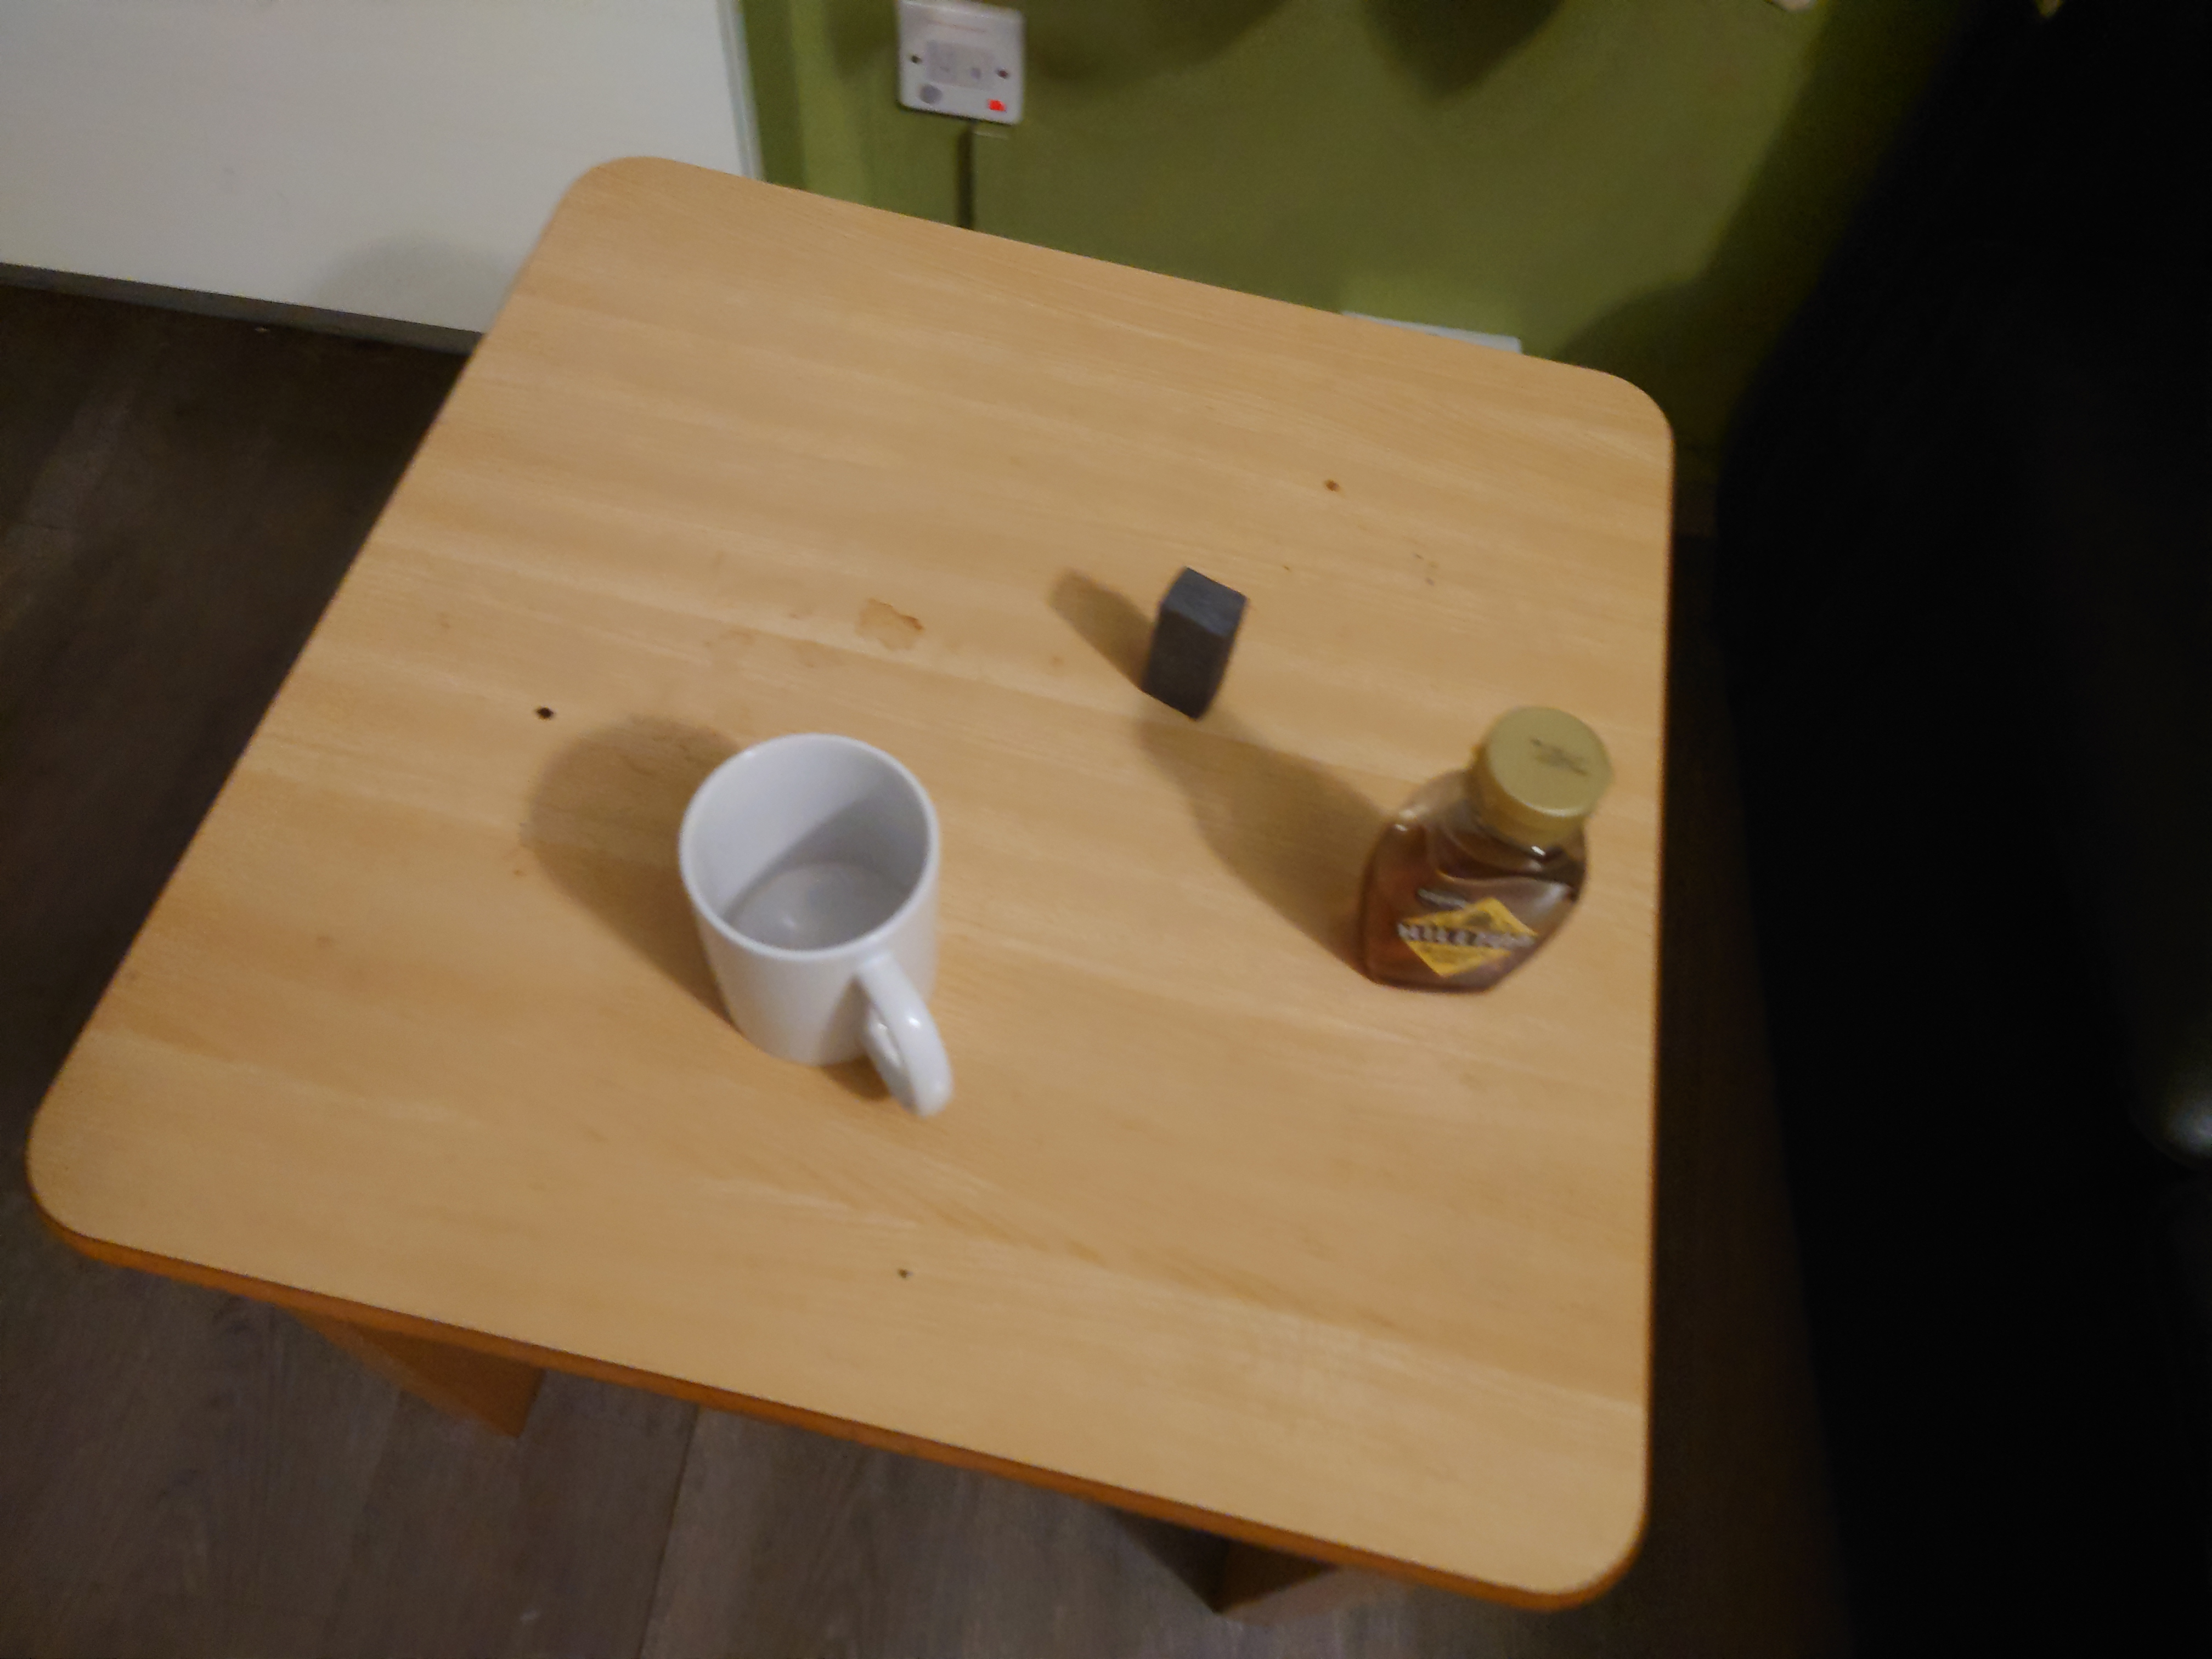cup: (681, 723, 949, 1122)
target: (1136, 558, 1249, 725)
